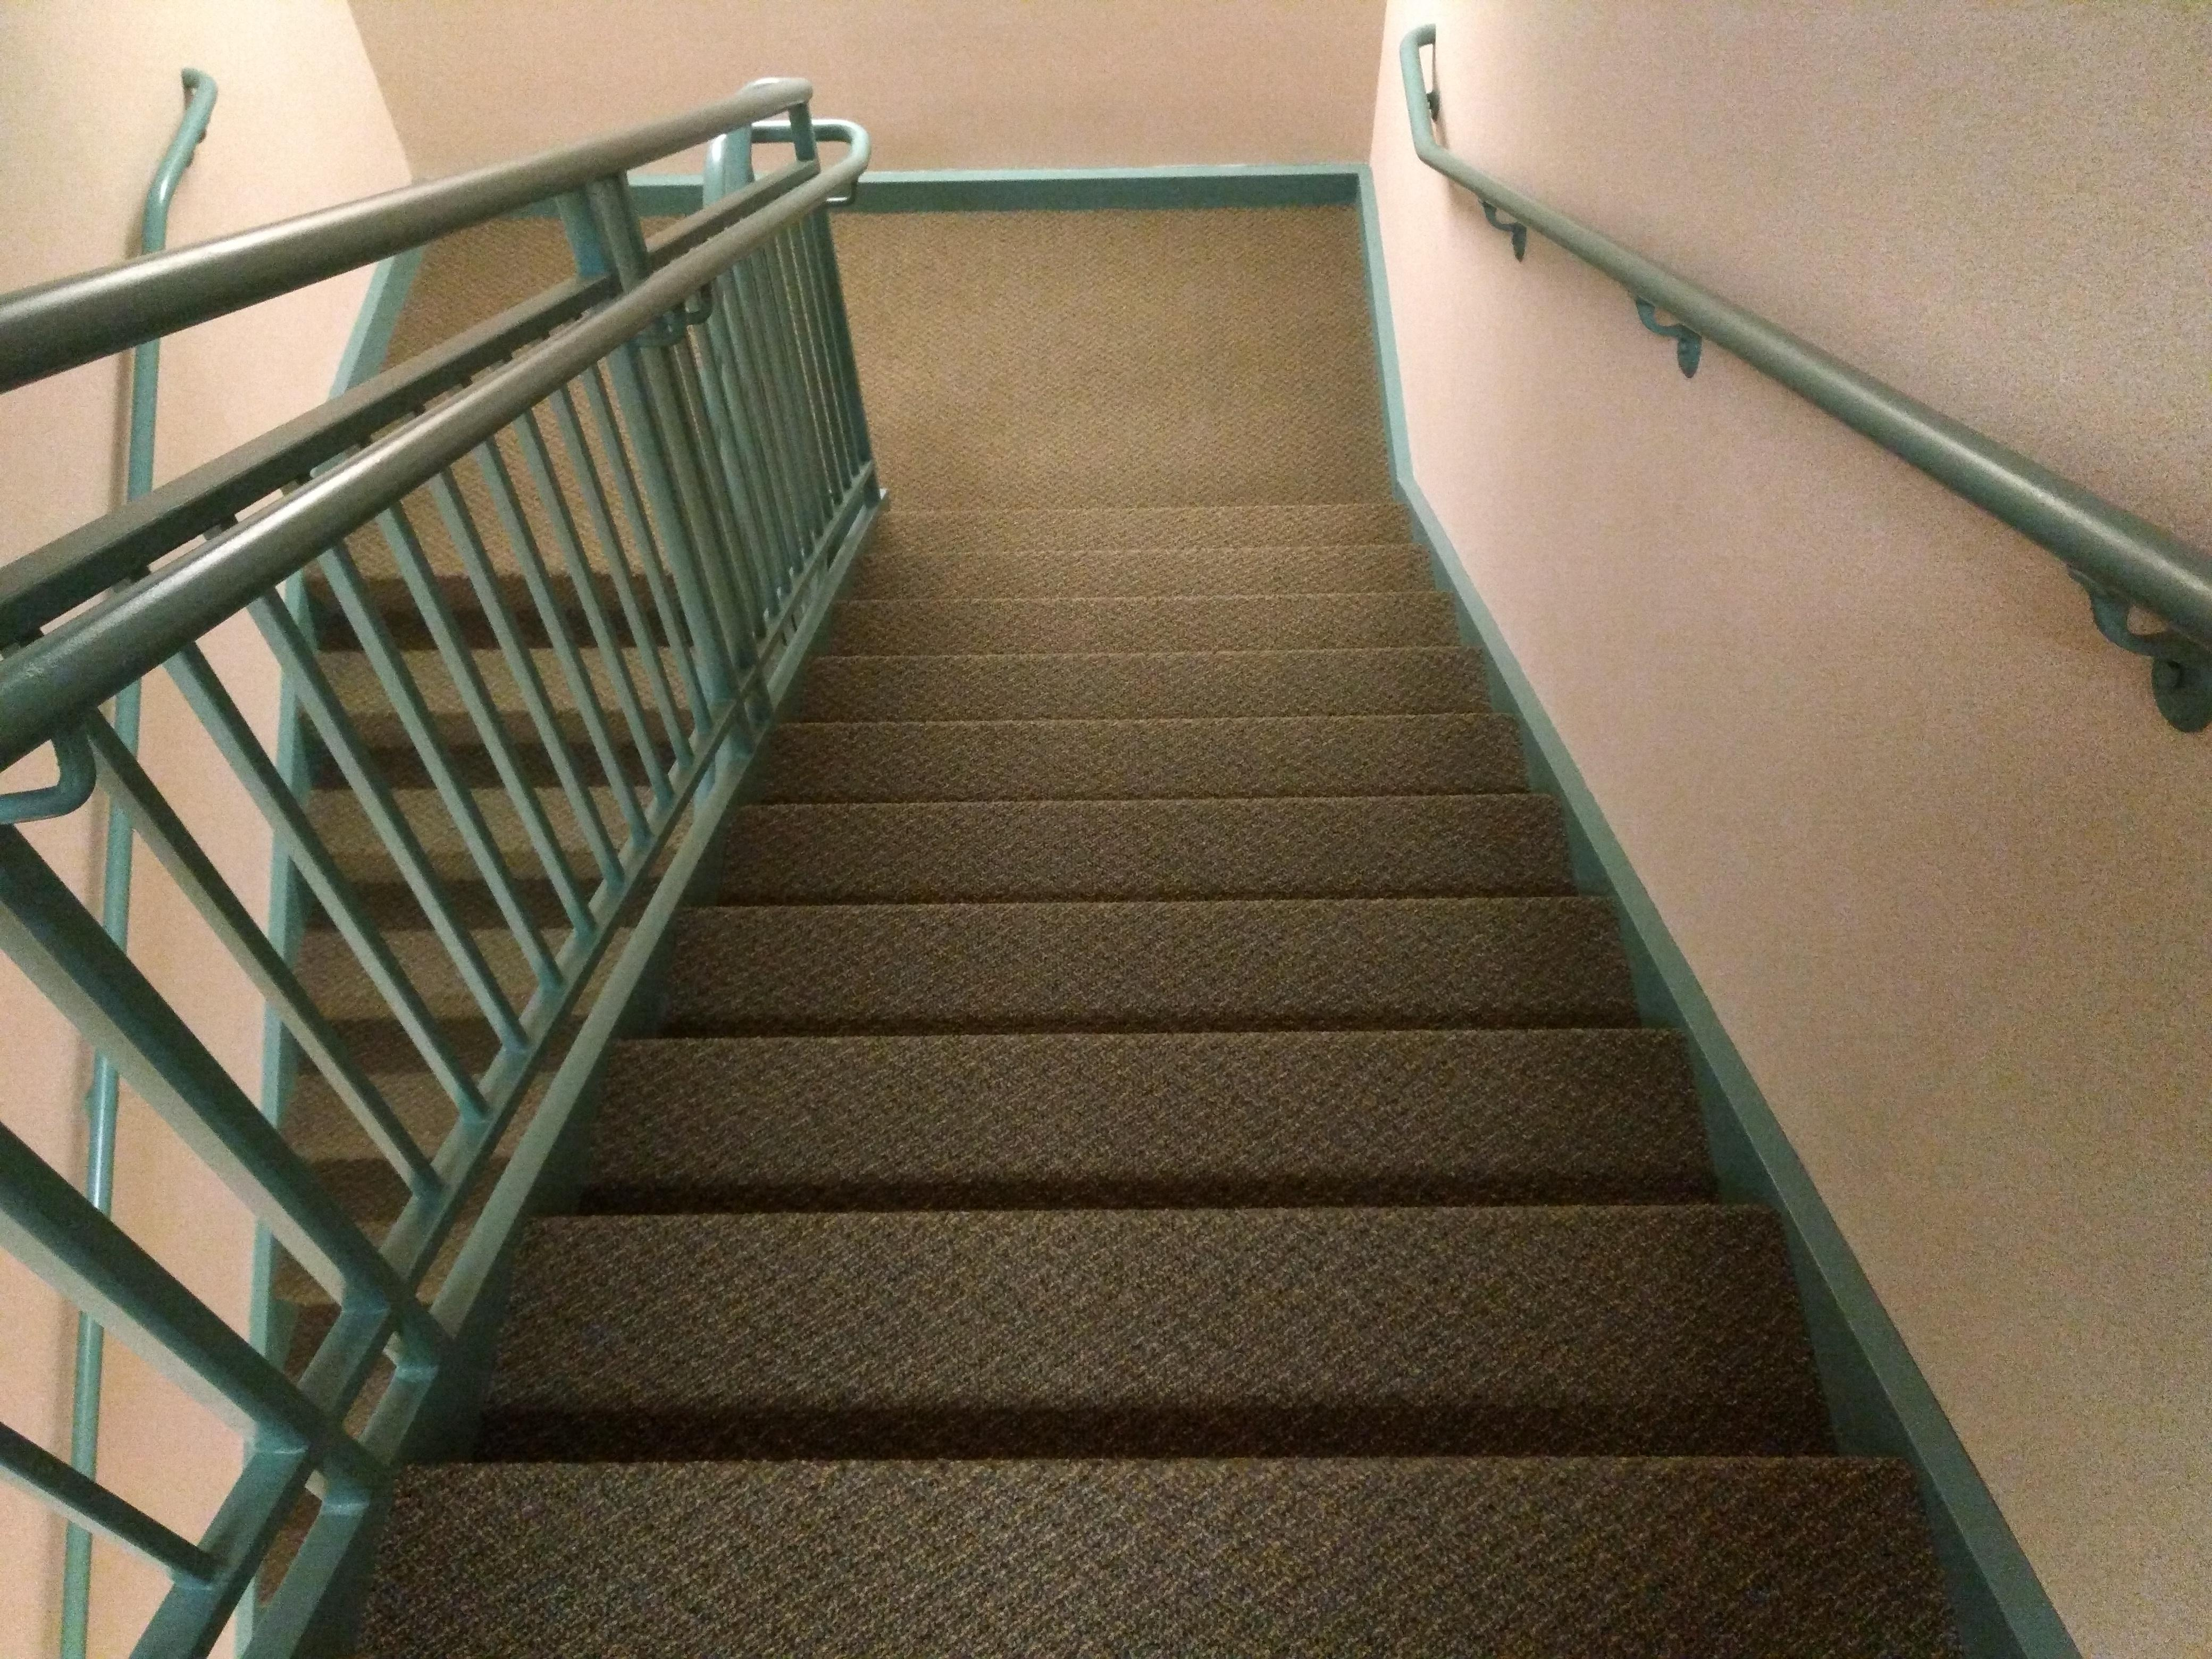stairs_down: (369, 498, 1918, 1532)
